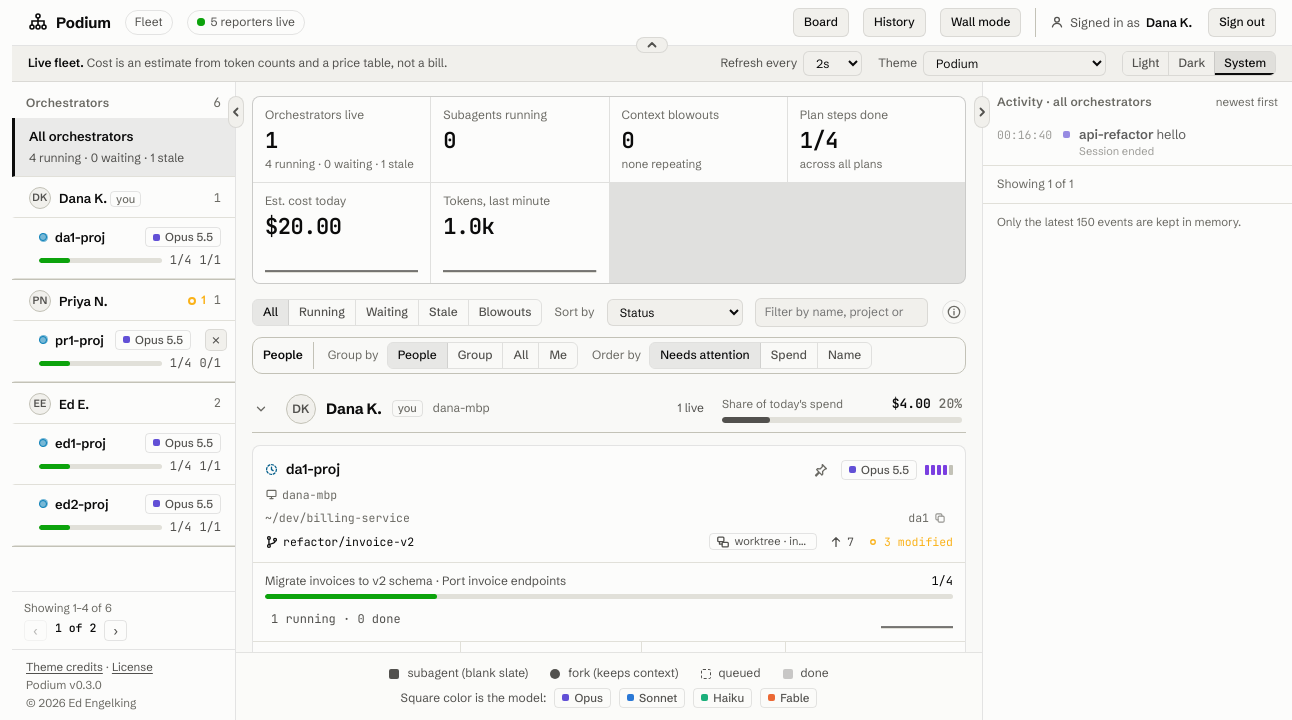
people view › signed in as a person: Me appears, that person's band leads, and Me is a flat wall of their own orchestrators
Expected: the text "you" below "Group by" is shown, [398, 401, 417, 415]
Click the button "Me".
click(558, 355)  # box [539, 343, 577, 368]
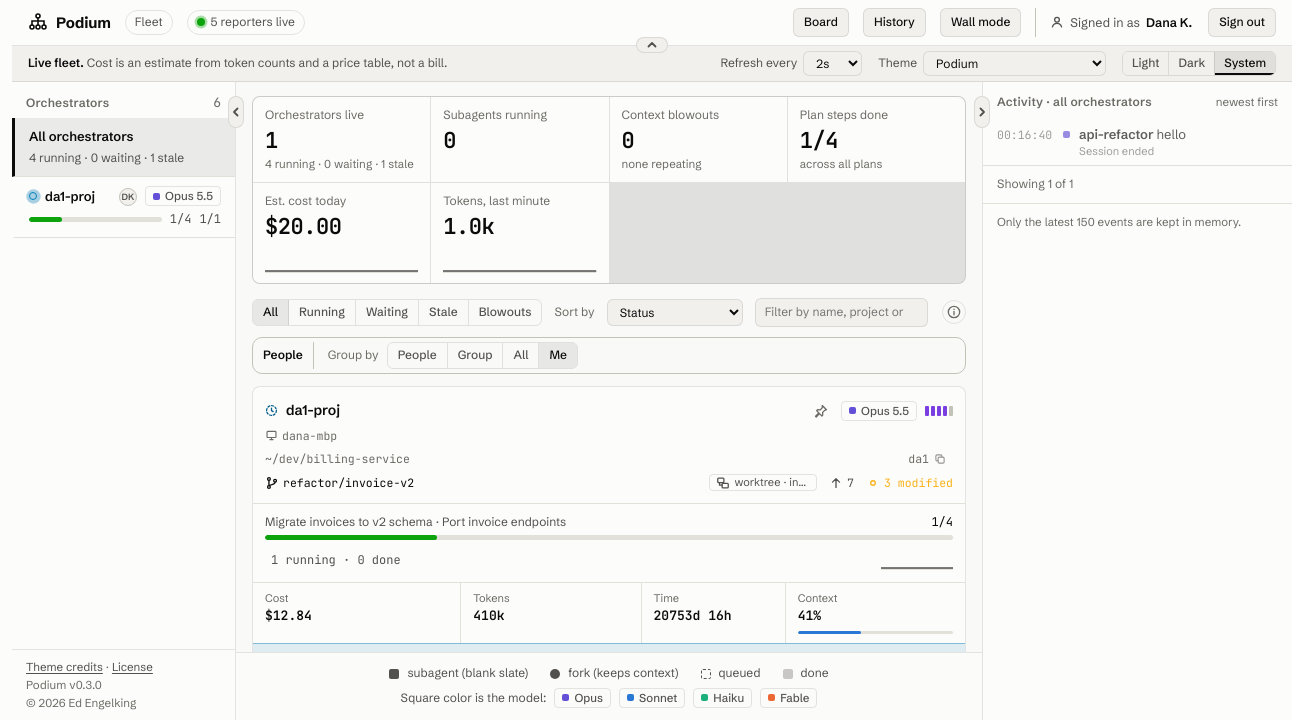
Now the element with class "bands" is gone
Now the text "Order by" is gone
Now the text "Dana K. you" is gone
